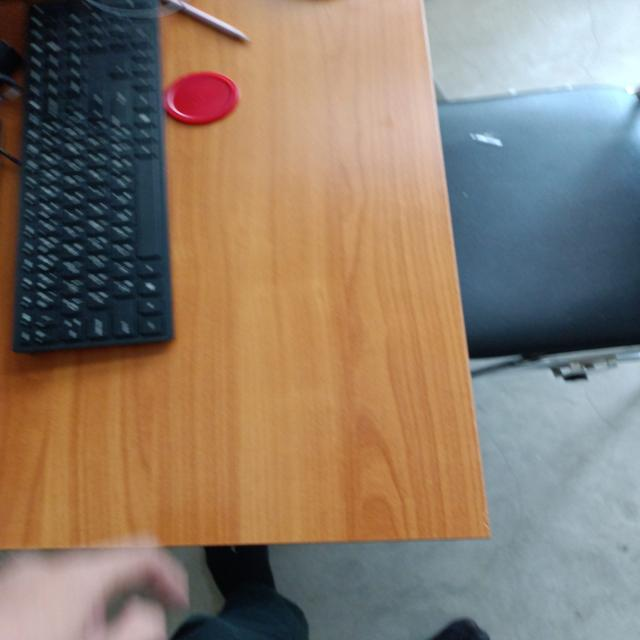chip: (161, 69, 243, 126)
